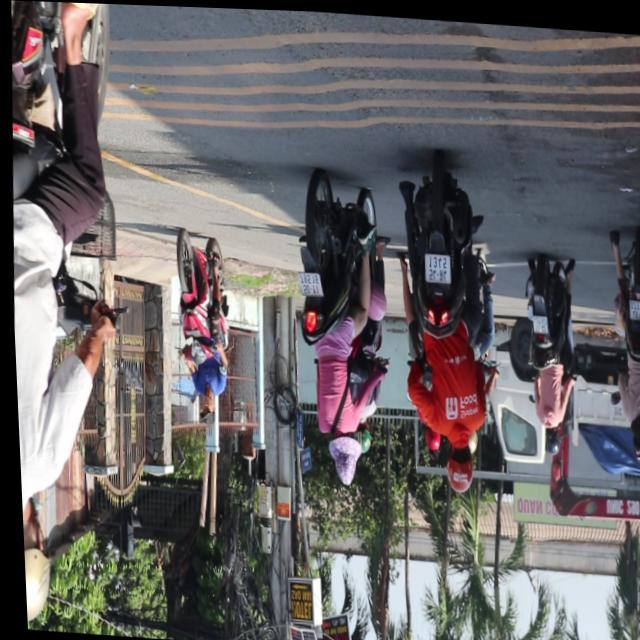helmet: (17, 499, 50, 625), (437, 435, 472, 490), (624, 418, 640, 459), (537, 421, 556, 453), (417, 422, 437, 451)
licenseplate: (0, 0, 143, 635), (382, 151, 503, 495), (280, 165, 396, 489), (164, 226, 234, 430), (514, 250, 579, 454), (599, 222, 640, 459)
motorcyclist: (321, 430, 359, 484), (192, 389, 212, 426)
nohelmet: (421, 251, 448, 281), (294, 269, 320, 295), (625, 296, 640, 318), (528, 312, 544, 329)
